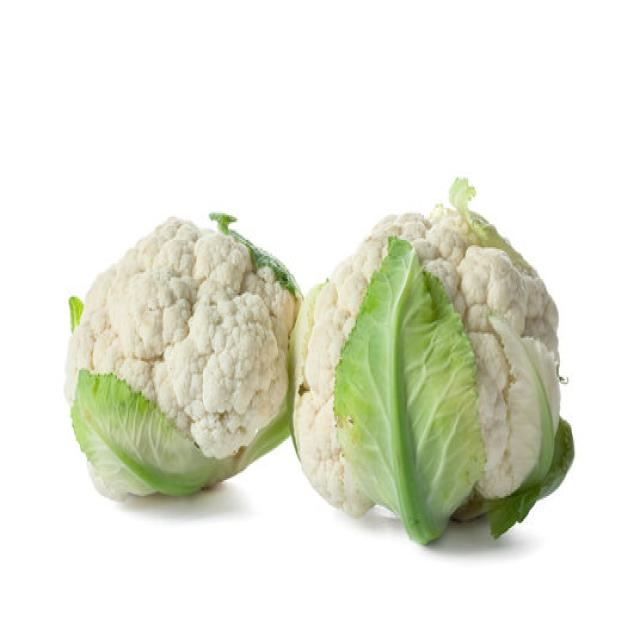Cauliflower: (286, 193, 566, 558), (63, 210, 302, 500)
